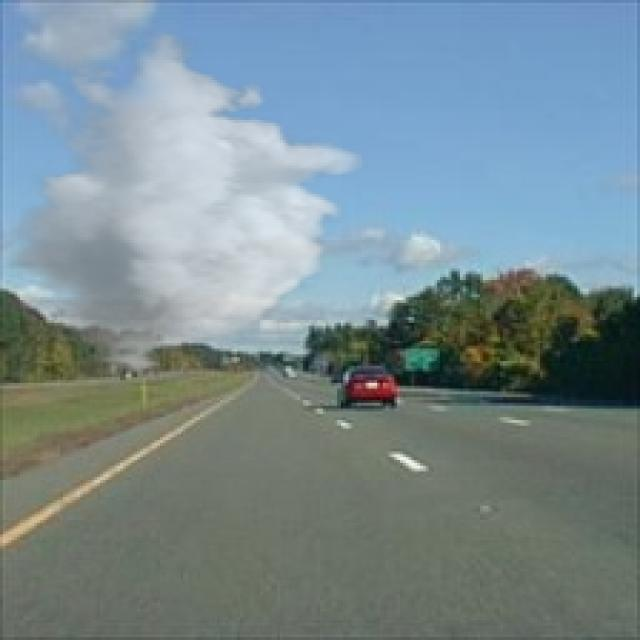smoke: (0, 32, 369, 377)
